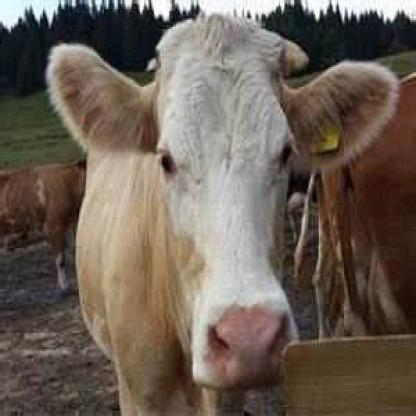cow: (44, 16, 401, 414)
